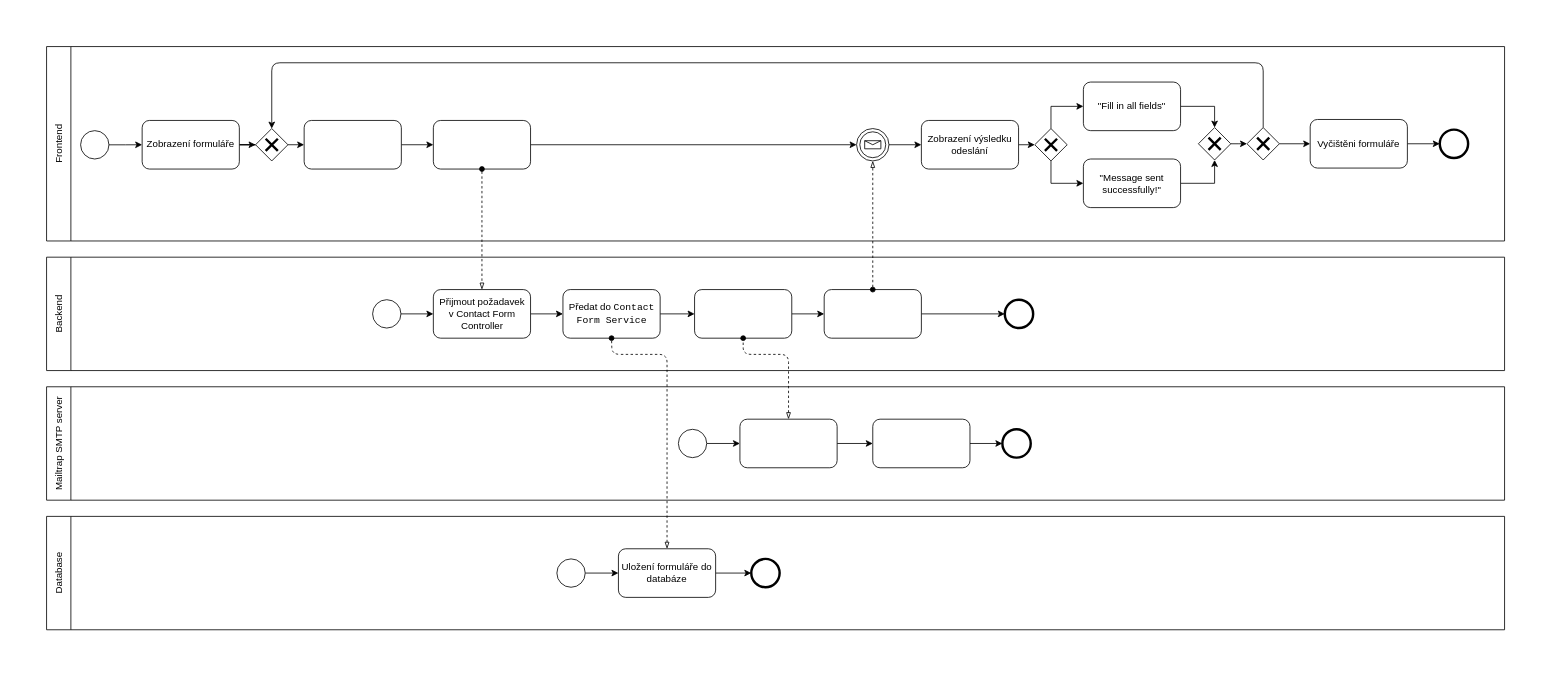
Image size: 1550x676. Some labels were removed from this diagram. The shapes that lost their labels are listed below. From the top down, each one's centre as x and y in pixels, then its label:
point (352, 144): Vyplnit údaje do pole
point (482, 144): Kliknout na tlačítko Submit pro odeslání
point (743, 313): Předat do EmailService
point (872, 313): Vyhodnotit požadavek
point (788, 443): Odeslání emailu s obsahem zprávy příjemci
point (921, 443): Zobrazení emailu ve webové aplikaci
